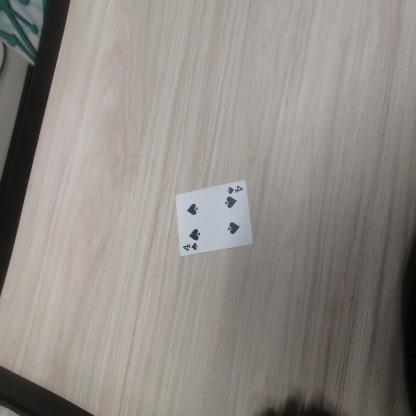4S: (224, 180, 247, 198), (182, 243, 203, 252)
